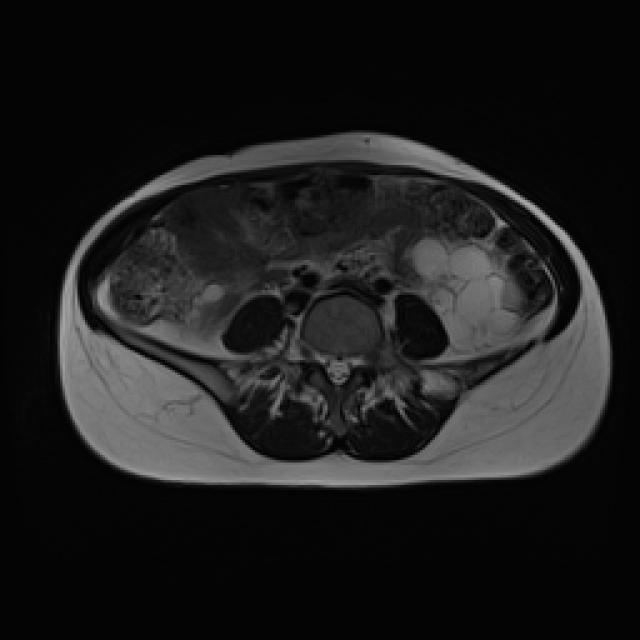sag: (169, 276, 231, 334)
sol: (415, 237, 525, 353)
